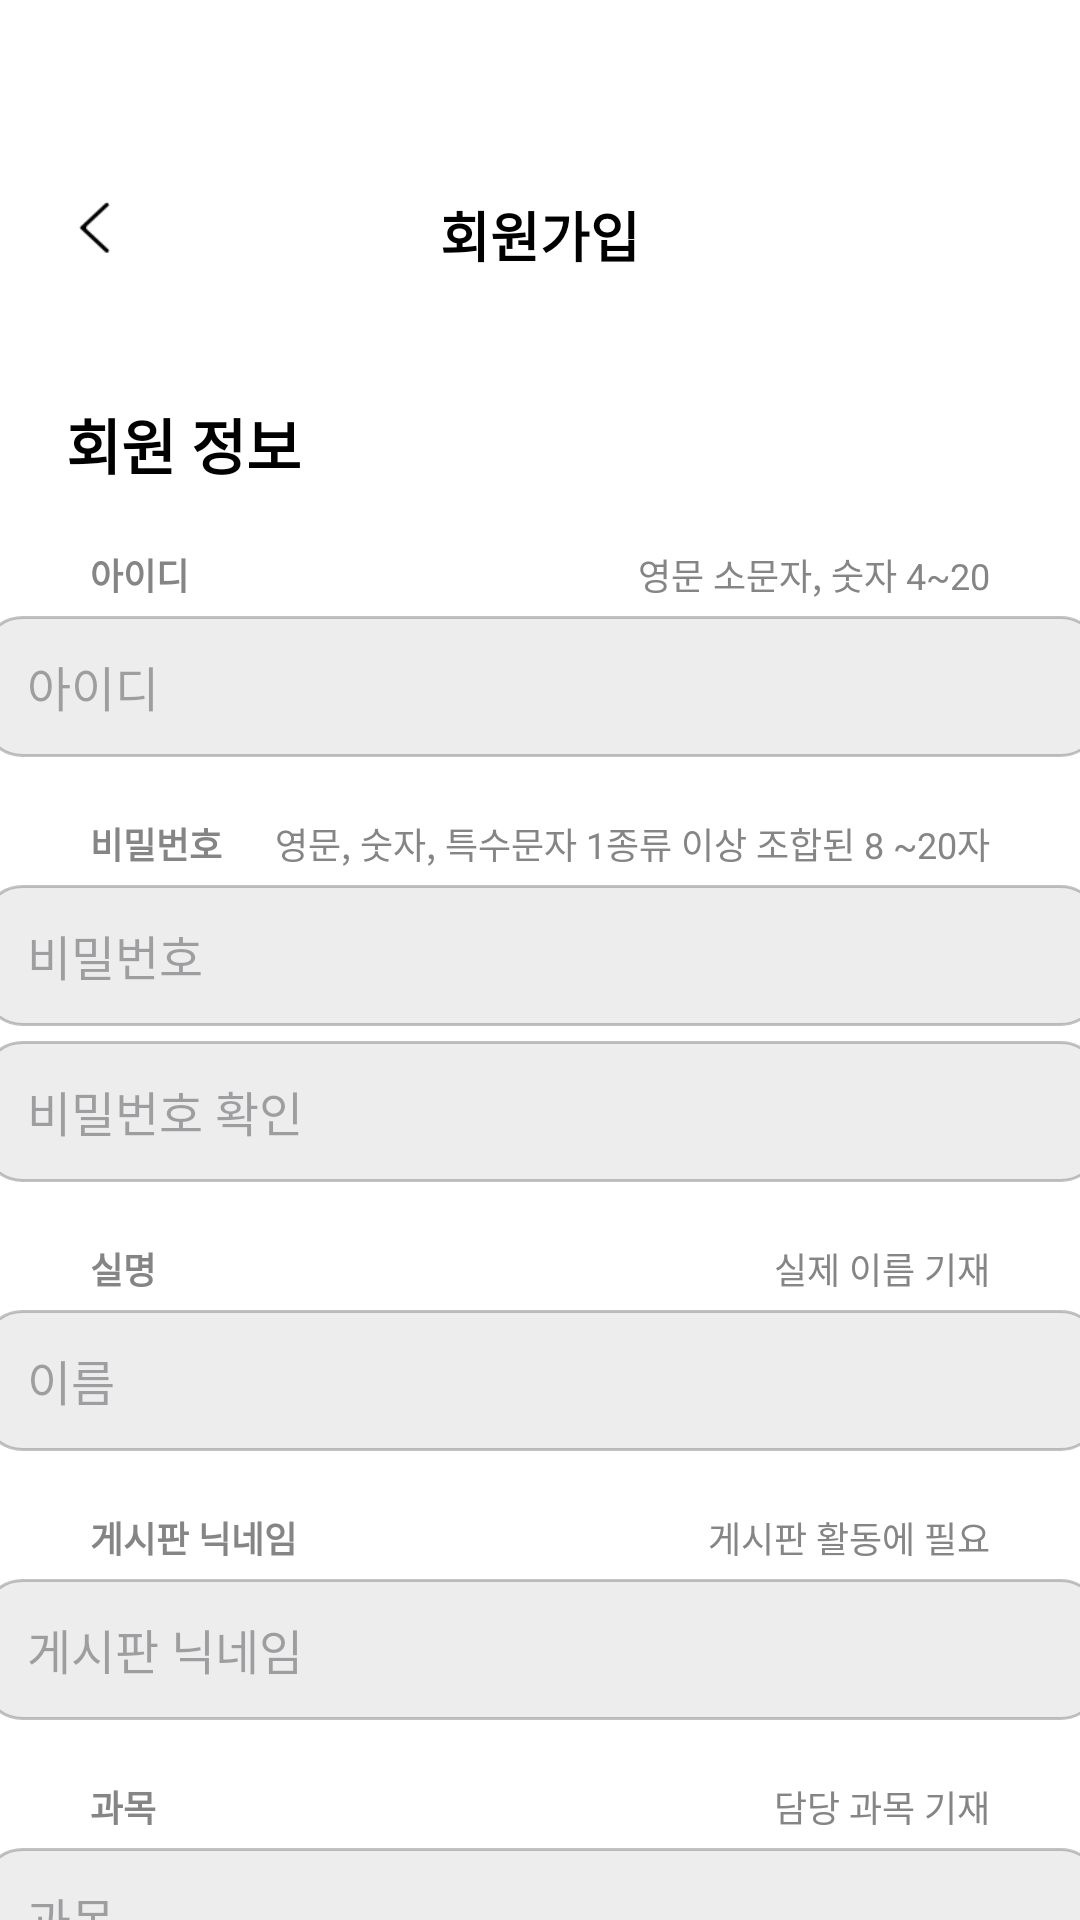

Named icons in this screenshot (1080w x 1920h) and their bounding boxes, detection(x1, y1, x2, y2):
back: detection(79, 202, 110, 253)
